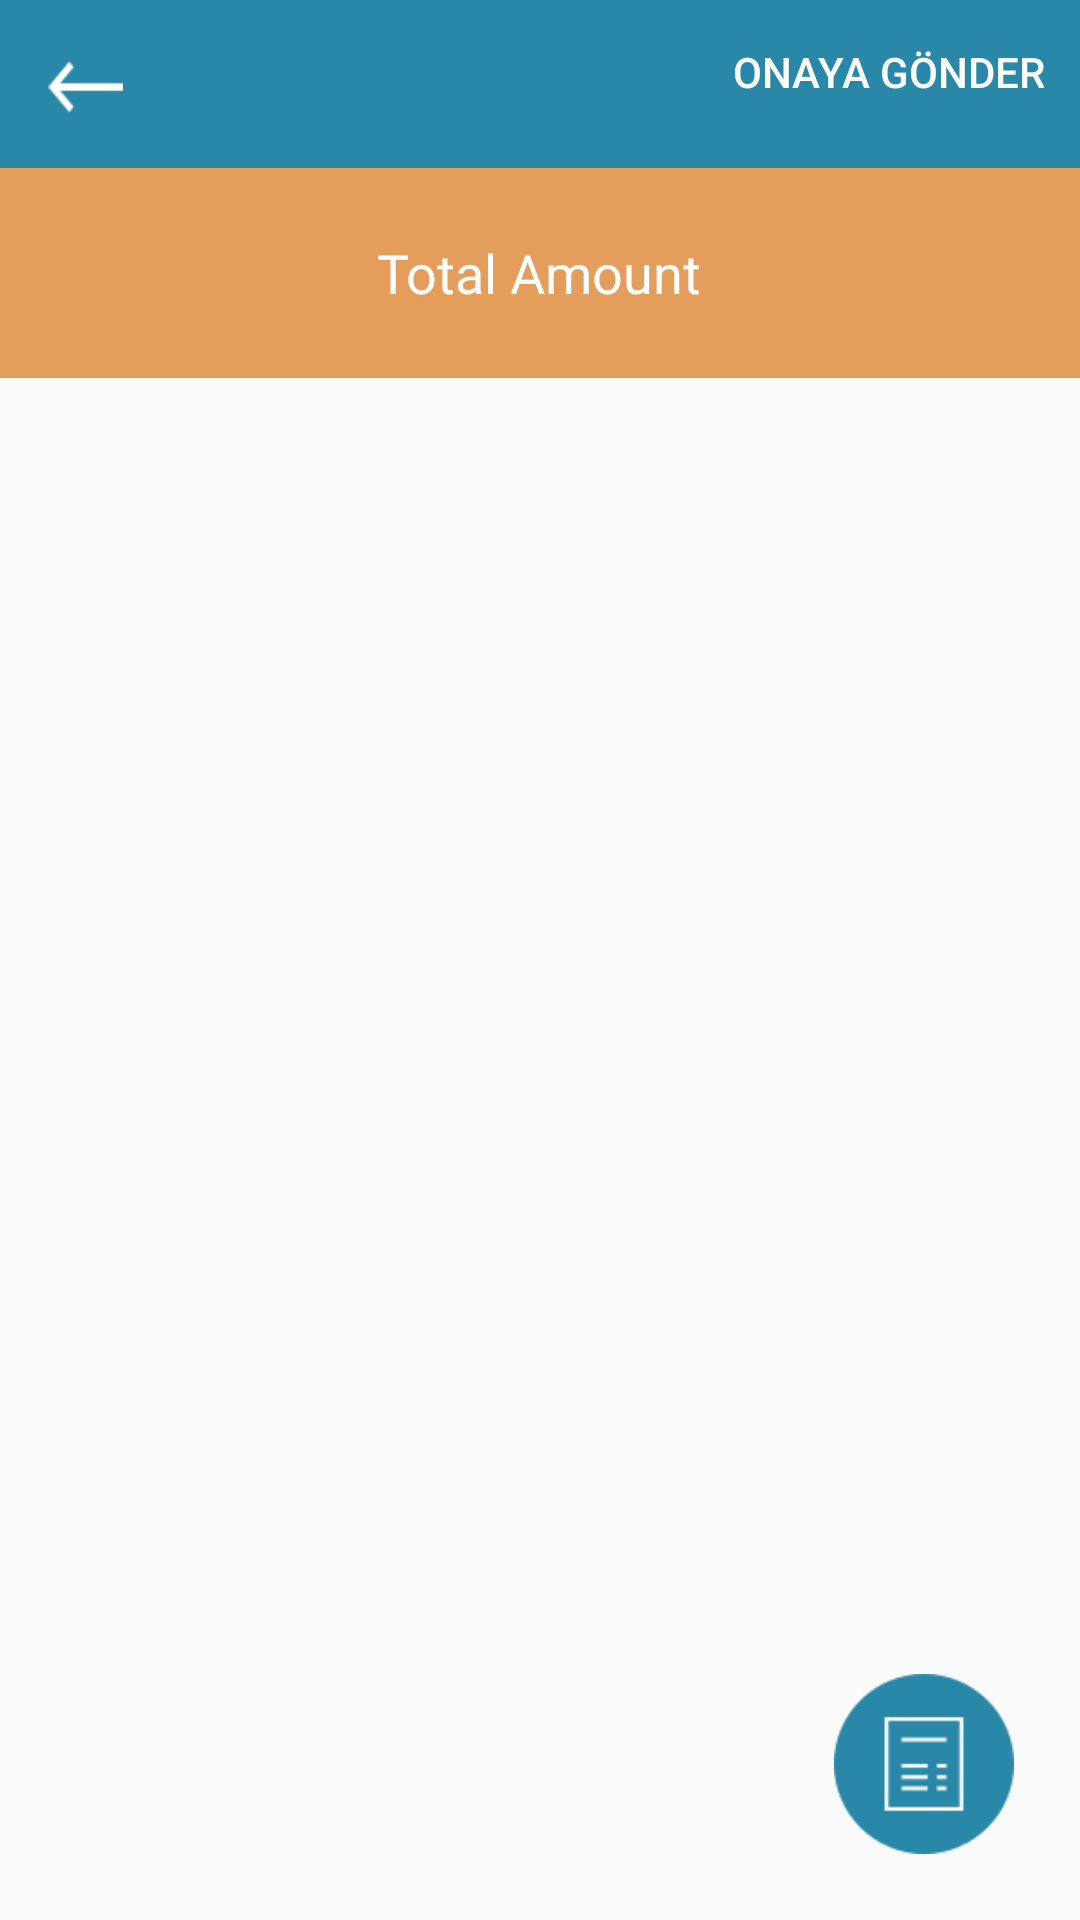

Named icons in this screenshot (1080px×1920px) and their bounding boxes, bbox(x1, y1, x2, y2):
iconback: bbox(48, 61, 123, 113)
iconreceipt: bbox(834, 1674, 1014, 1854)
